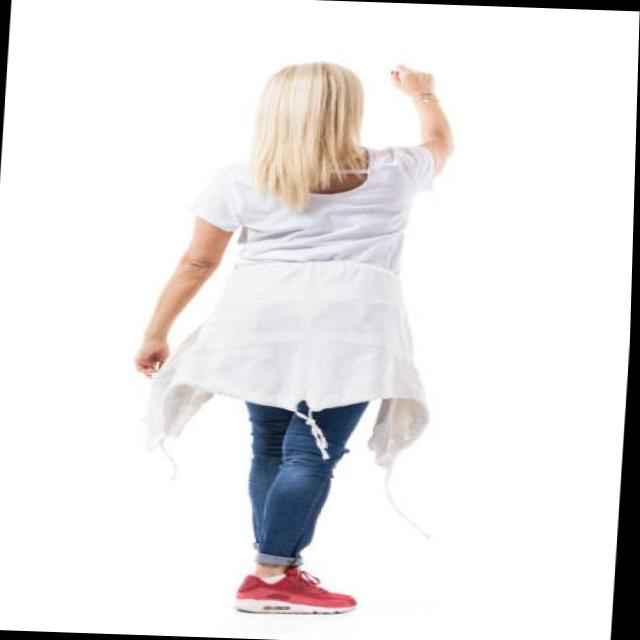no helmet: (245, 44, 380, 170)
